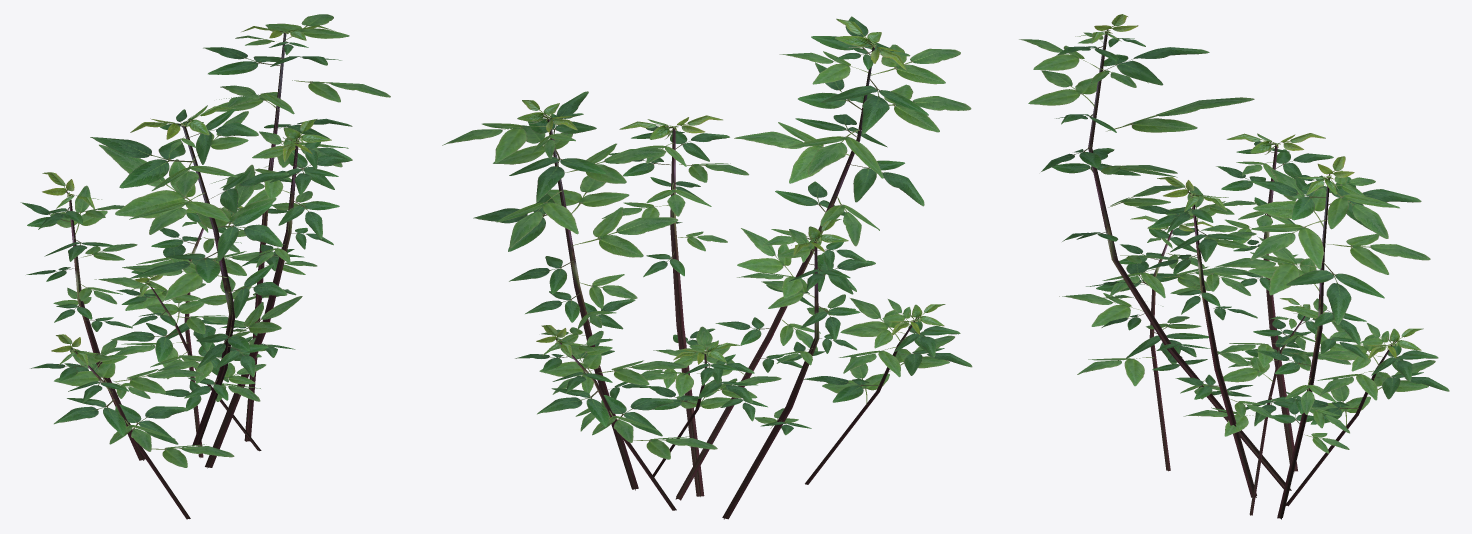
The model's file is m_grass_33_2.fbx.
The picture shows the model from 3 angles, left to right: view 1: azimuth 30°, elevation 25°; view 2: azimuth 150°, elevation 25°; view 3: azimuth 270°, elevation 25°; orthographic projection.
Parts seen in each view (by area): view 1: mesh_grass_33_2_LOD0; view 2: mesh_grass_33_2_LOD0; view 3: mesh_grass_33_2_LOD0.
Boxes of the visible parts, <box> form: mesh_grass_33_2_LOD0: <box>20,14,390,519</box>; mesh_grass_33_2_LOD0: <box>442,16,972,519</box>; mesh_grass_33_2_LOD0: <box>1019,14,1449,519</box>.
Size of what is drawn, in the model's own units: 50.55 by 50.92 by 47.55.
